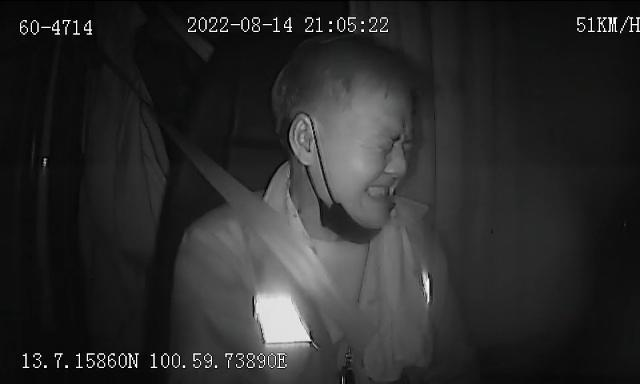Seatbelt: (182, 123, 376, 349)
